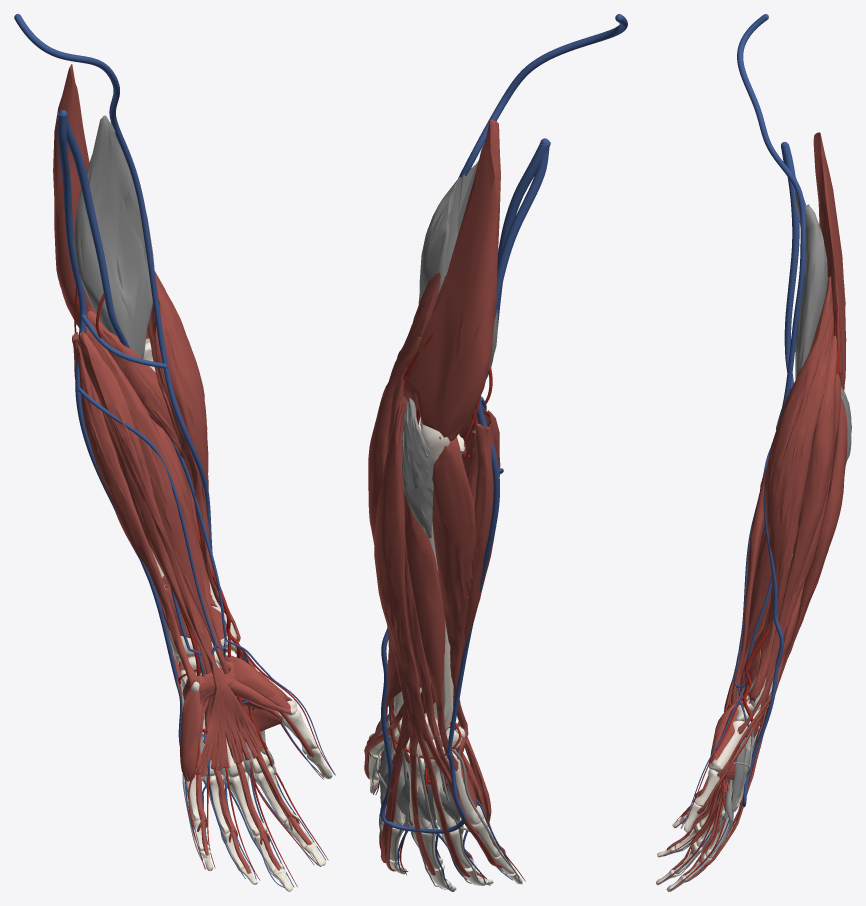
Rendered from hand_elbow_left.glb.
3 views of the same model, side by side, from view 1: azimuth 30°, elevation 25°; view 2: azimuth 150°, elevation 25°; view 3: azimuth 270°, elevation 25° (orthographic). The views are drawn at different scales.
Visible parts, largest first — view 1: left brachialis, left palmaris longus, left brachioradialis, left flexor carpi radialis, humeral head of left flexor carpi ulnaris, left flexor digitorum superficialis, medial head of left triceps brachii, left cephalic vein, left basilic vein, humeral head of left pronator teres, left medial brachial vein, left flexor digitorum profundus (+9 smaller); view 2: medial head of left triceps brachii, left extensor digitorum, ulnar head of left flexor carpi ulnaris, left extensor carpi ulnaris, humeral head of left flexor carpi ulnaris, left brachialis, left basilic vein, left anconeus, left cephalic vein, left extensor carpi radialis longus, left extensor digiti minimi, musculature.005 (+12 smaller); view 3: left brachioradialis, left extensor carpi radialis longus, left cephalic vein, left extensor digitorum, medial head of left triceps brachii, left brachialis, left flexor carpi radialis, left medial brachial vein, left flexor digitorum superficialis.001, left extensor carpi radialis brevis, left flexor digitorum profundus, left abductor pollicis longus (+8 smaller).
Part boxes in pixels (bbox=[...]): left brachialis: bbox=[73, 115, 154, 359]; left palmaris longus: bbox=[79, 331, 267, 776]; left brachioradialis: bbox=[147, 271, 240, 648]; left flexor carpi radialis: bbox=[86, 326, 229, 673]; humeral head of left flexor carpi ulnaris: bbox=[72, 332, 200, 699]; left flexor digitorum superficialis: bbox=[75, 332, 299, 844]; medial head of left triceps brachii: bbox=[53, 64, 95, 332]; left cephalic vein: bbox=[14, 14, 223, 650]; left basilic vein: bbox=[58, 110, 177, 683]; humeral head of left pronator teres: bbox=[86, 311, 187, 467]; left medial brachial vein: bbox=[57, 112, 129, 347]; left flexor digitorum profundus: bbox=[154, 555, 312, 873]; medial head of left triceps brachii: bbox=[408, 119, 500, 441]; left extensor digitorum: bbox=[374, 396, 502, 877]; ulnar head of left flexor carpi ulnaris: bbox=[432, 436, 475, 695]; left extensor carpi ulnaris: bbox=[403, 400, 458, 770]; humeral head of left flexor carpi ulnaris: bbox=[453, 423, 497, 759]; left brachialis: bbox=[418, 160, 497, 434]; left basilic vein: bbox=[446, 138, 549, 753]; left anconeus: bbox=[402, 397, 434, 537]; left cephalic vein: bbox=[381, 14, 627, 760]; left extensor carpi radialis longus: bbox=[368, 336, 421, 752]; left extensor digiti minimi: bbox=[405, 535, 478, 833]; musculature.005: bbox=[379, 739, 463, 833]; left brachioradialis: bbox=[748, 276, 833, 703]; left extensor carpi radialis longus: bbox=[751, 335, 837, 737]; left cephalic vein: bbox=[737, 14, 805, 744]; left extensor digitorum: bbox=[703, 396, 847, 867]; medial head of left triceps brachii: bbox=[813, 132, 846, 390]; left brachialis: bbox=[795, 190, 827, 378]; left flexor carpi radialis: bbox=[731, 464, 767, 703]; left medial brachial vein: bbox=[782, 144, 799, 390]; left flexor digitorum superficialis.001: bbox=[739, 532, 771, 684]; left extensor carpi radialis brevis: bbox=[758, 374, 840, 731]; left flexor digitorum profundus: bbox=[666, 600, 770, 875]; left abductor pollicis longus: bbox=[737, 583, 804, 734].
Size of the model in its own units: 0.2176 by 0.6735 by 0.1533.
